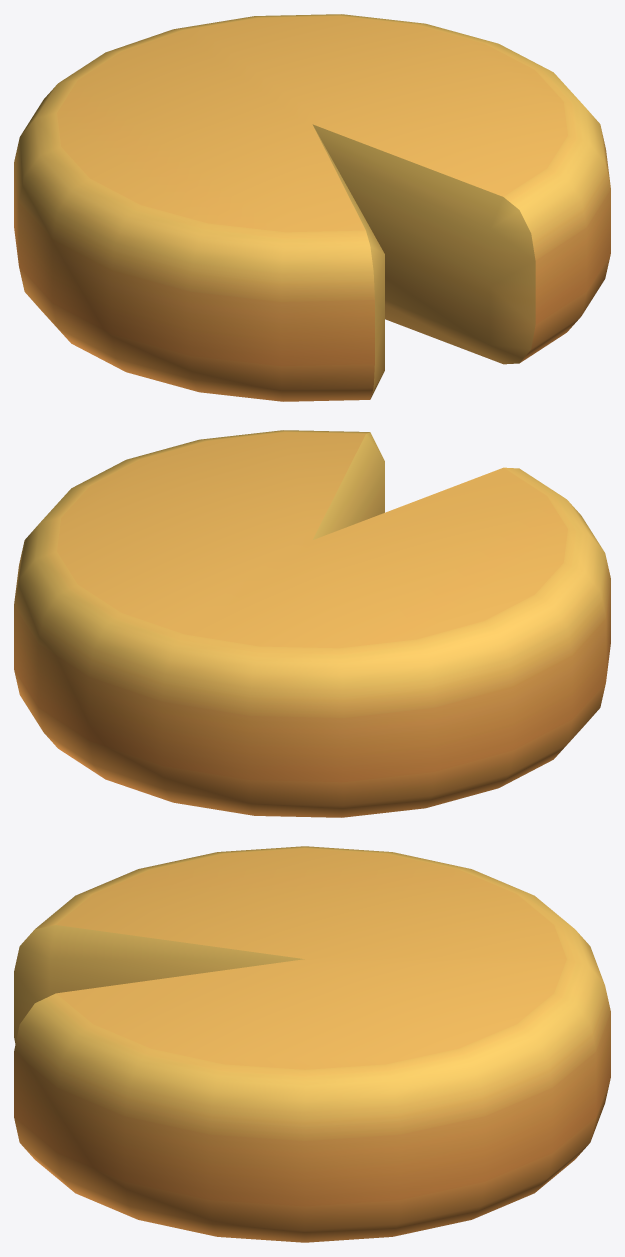
File: food_cheese.glb
3 views of the same model, one above another, from view 1: azimuth 30°, elevation 25°; view 2: azimuth 150°, elevation 25°; view 3: azimuth 270°, elevation 25° (orthographic).
Parts seen in each view (by area): view 1: Food_Cheese; view 2: Food_Cheese; view 3: Food_Cheese.
Boxes of the visible parts, bbox=[...] form: Food_Cheese: bbox=[14, 14, 610, 401]; Food_Cheese: bbox=[14, 430, 610, 817]; Food_Cheese: bbox=[14, 846, 610, 1242].
Size of the model in its own units: 0.9083 by 0.2794 by 0.8861.
Materials: 1 (1 with a texture image).
